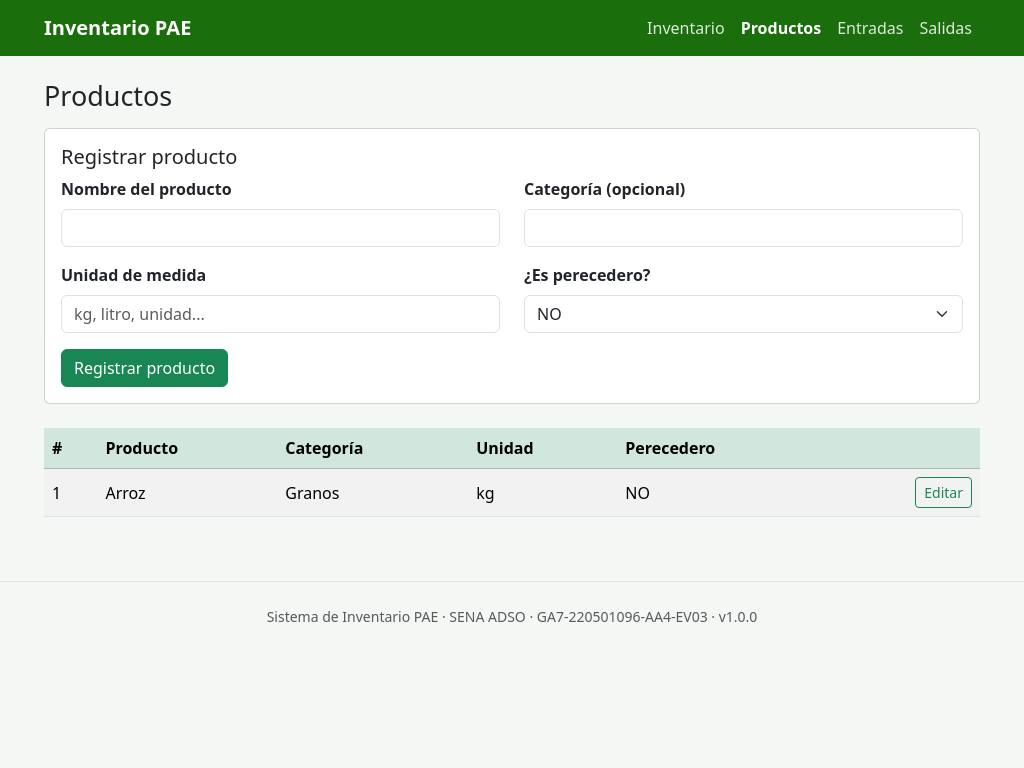
Test case: Sistema de Inventario PAE (front-end) › HU-02: valida campos obligatorios y registra un producto
Expected: the text "Arroz" is shown, [98, 469, 277, 517]
Click the button "Registrar producto" at (145, 368), box [61, 349, 228, 387]
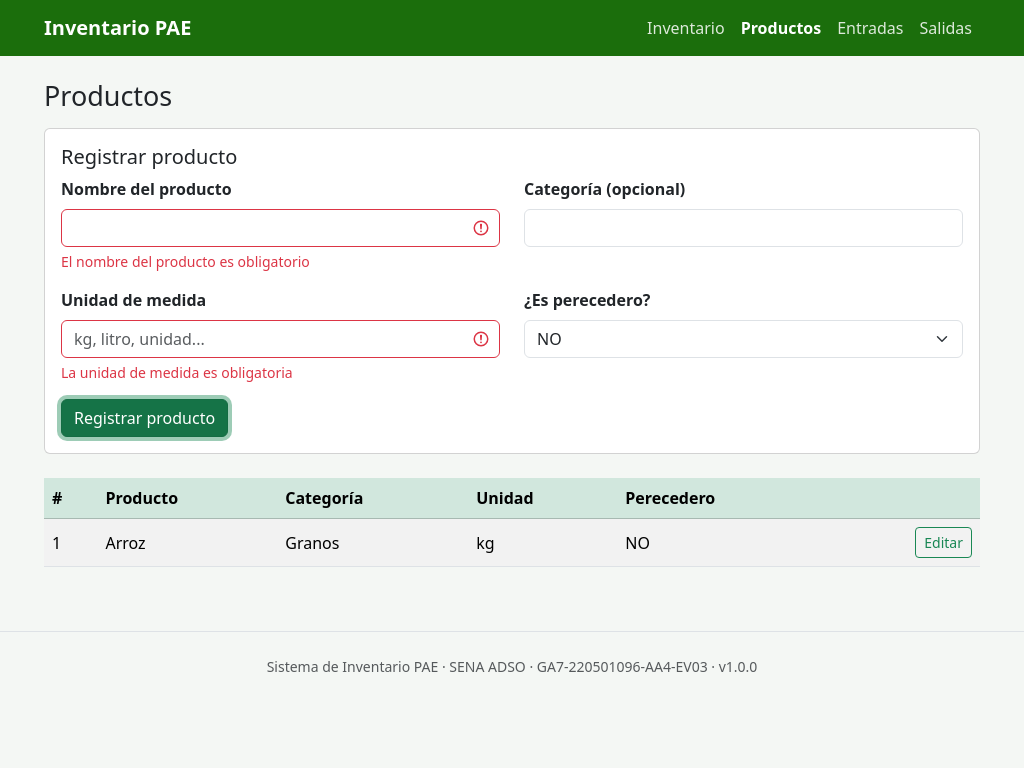
Now the text "El nombre del producto es obligatorio" is shown, box [61, 252, 310, 271]
Type "Lentejas" into the field labelled "Nombre del producto" at (280, 228), box [61, 209, 500, 247]
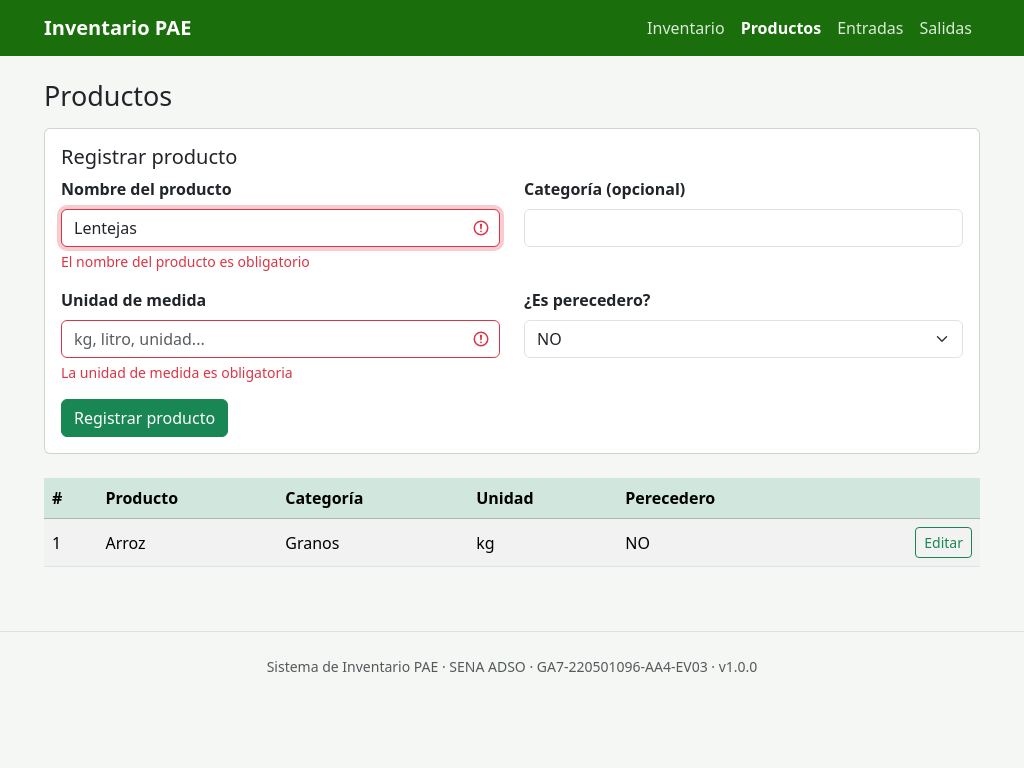
Type "kg" into the field labelled "Unidad de medida" at (280, 339), box [61, 320, 500, 358]
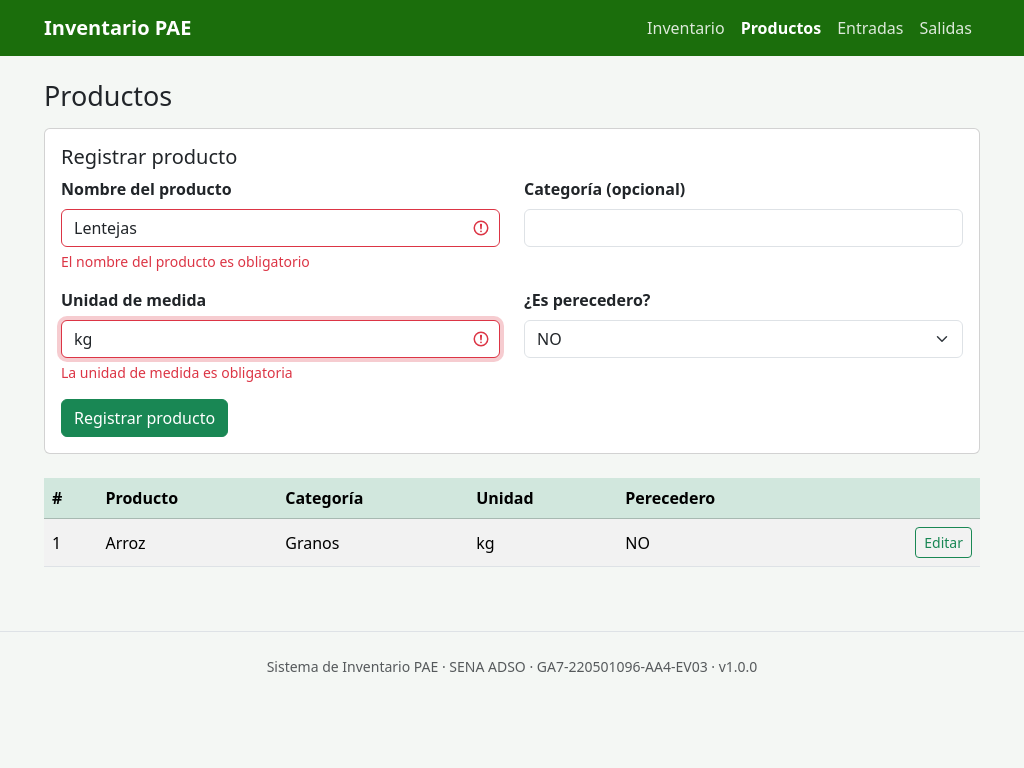
Click the button "Registrar producto" at (145, 418), box [61, 399, 228, 437]
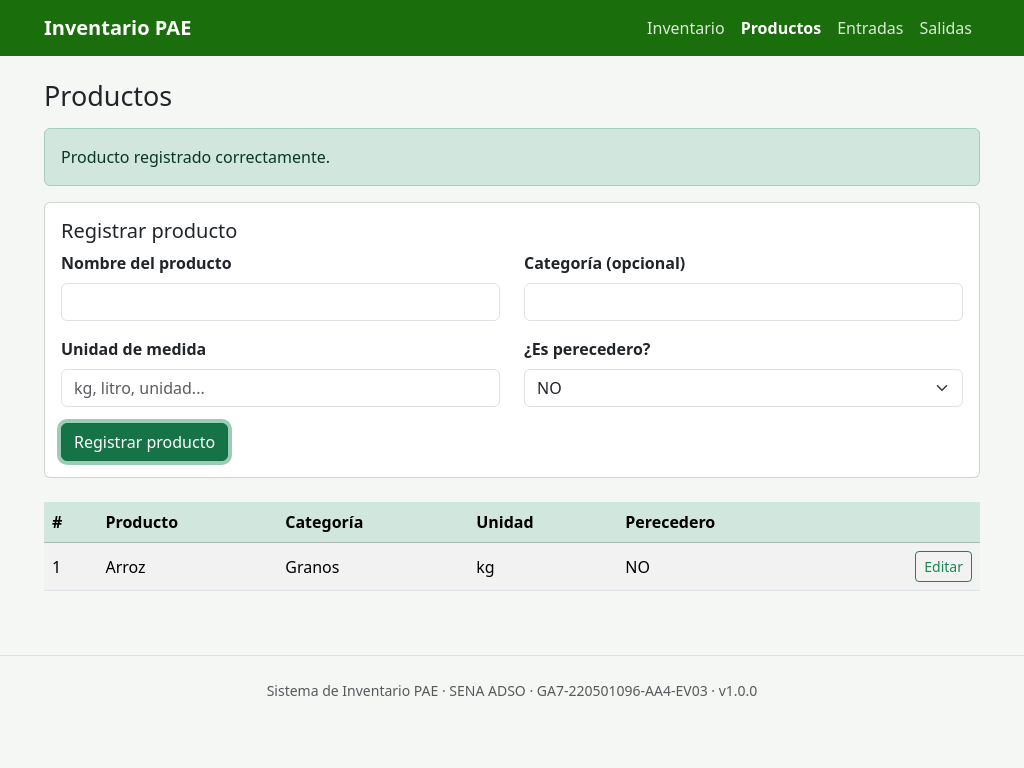
Now the text "Producto registrado correctamente." is shown, box [44, 128, 980, 186]
